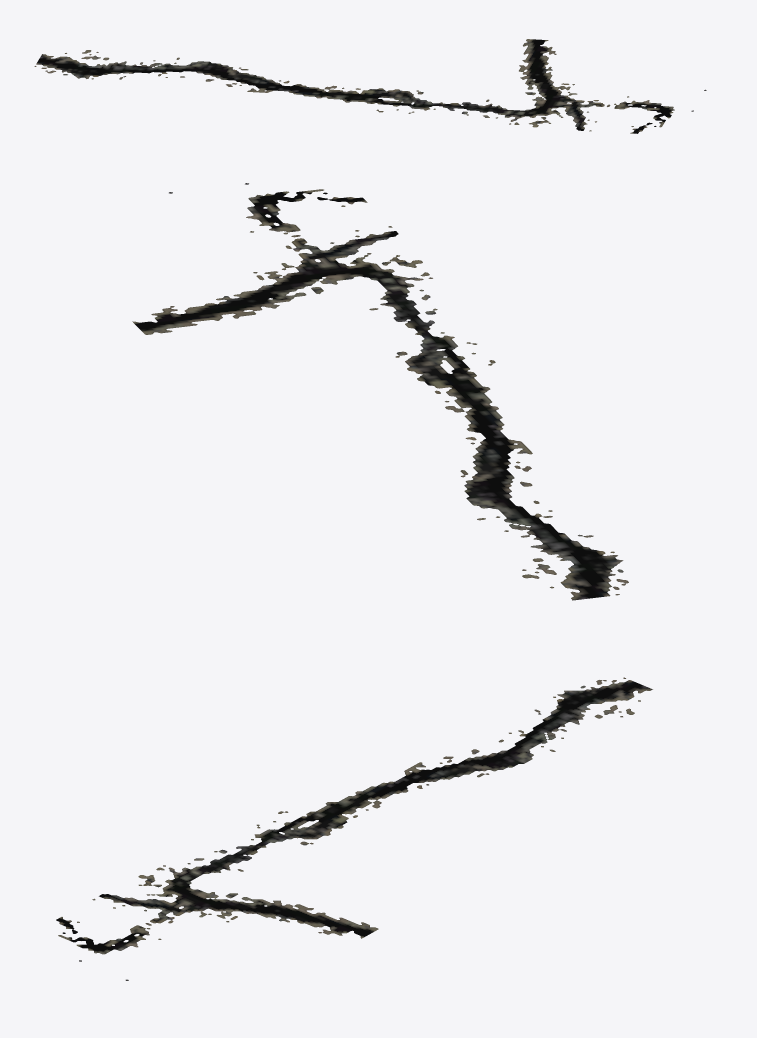
File: Rubble2.fbx
3 renders of one model, top to bottom at view 1: azimuth 30°, elevation 25°; view 2: azimuth 150°, elevation 25°; view 3: azimuth 270°, elevation 25°, orthographic. The views are drawn at different scales.
Parts seen in each view (by area): view 1: Rubble2; view 2: Rubble2; view 3: Rubble2.
Boxes of the visible parts, x1=… form: Rubble2: x1=34, y1=39, x2=706, y2=133; Rubble2: x1=132, y1=183, x2=628, y2=600; Rubble2: x1=56, y1=677, x2=652, y2=980.
Bounding box in the file's own units: 183 × 3.09e-14 × 149.
